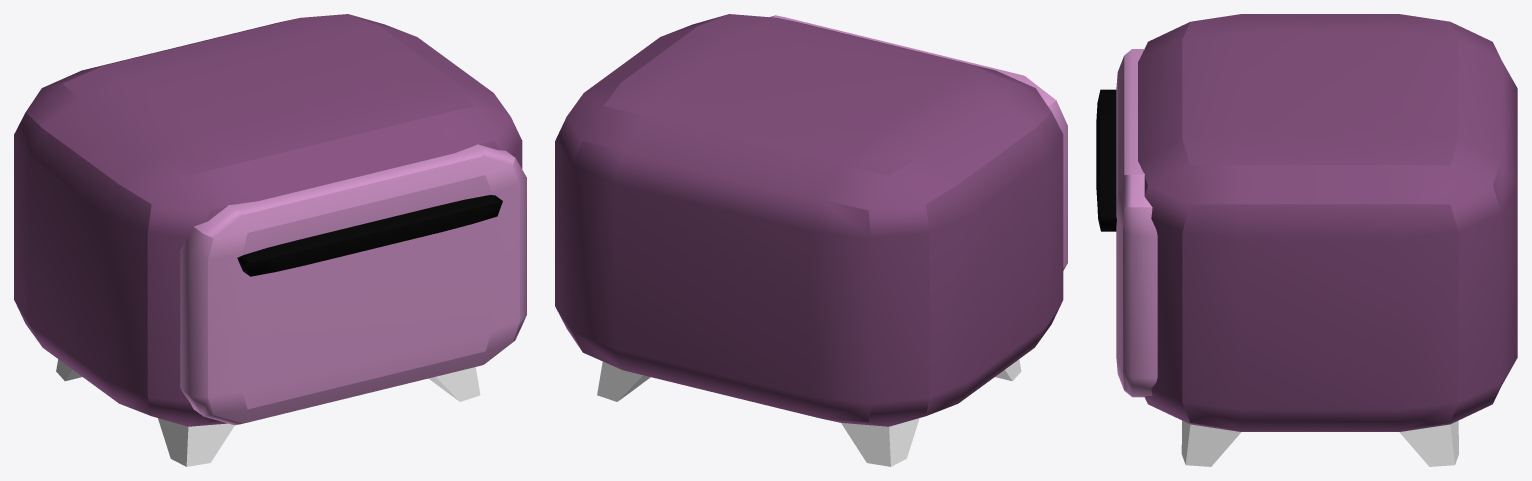
The model's file is oven.fbx.
3 renders of one model, left to right at view 1: azimuth 30°, elevation 25°; view 2: azimuth 150°, elevation 25°; view 3: azimuth 270°, elevation 25°, orthographic. The views are drawn at different scales.
Parts seen in each view (by area): view 1: fridge1; view 2: fridge1; view 3: fridge1.
Part boxes in pixels (x1,y1,x2,y2): fridge1: [14, 14, 526, 466]; fridge1: [555, 14, 1067, 466]; fridge1: [1096, 14, 1517, 466].
Bounding box in the file's own units: 43.84 × 31.22 × 38.53.
